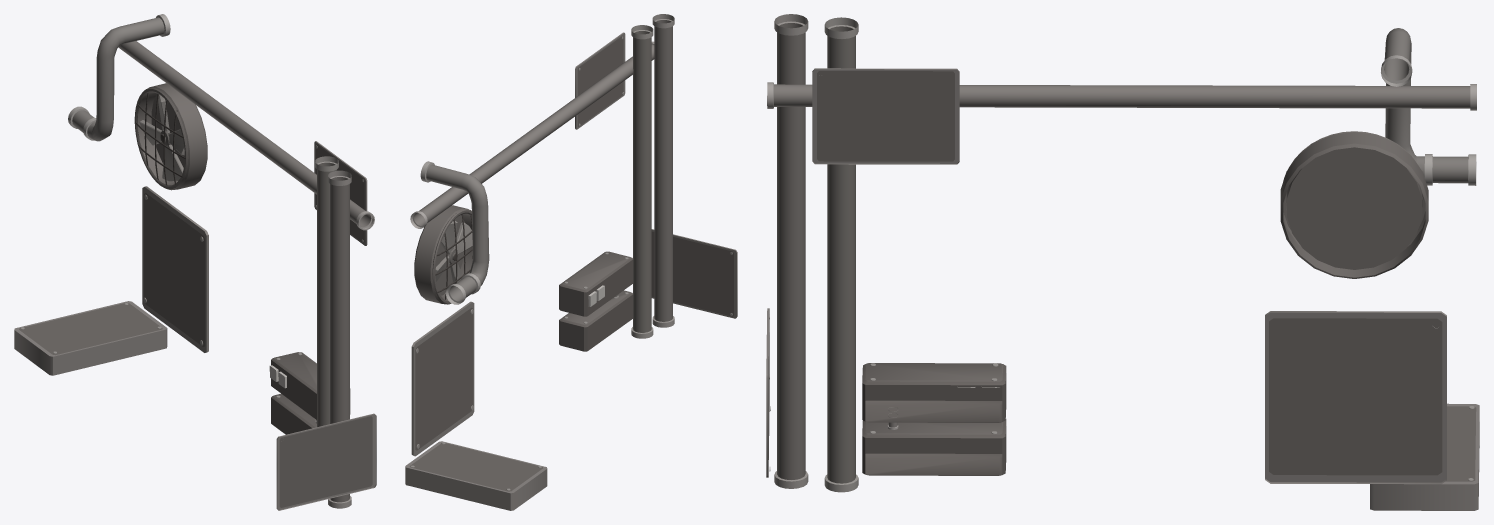
The model's file is Diorama_Background.fbx.
The picture shows the model from 3 angles, left to right: view 1: azimuth 30°, elevation 25°; view 2: azimuth 150°, elevation 25°; view 3: azimuth 270°, elevation 25°; orthographic projection. The views are drawn at different scales.
Visible parts, largest first — view 1: pipes03.002, pipes03.005, pipes03.006, ShopLargePipe00.006, fanBody.001, ShopLargePipe00.001, ShopLargePipe00.002, ShopLargePipe00, pipes03.007, fanBlade.003, pipes03.004, pipes03.008; view 2: pipes03.002, pipes03.006, ShopLargePipe00.006, ShopLargePipe00.002, pipes03.005, ShopLargePipe00.001, fanBody.001, ShopLargePipe00, pipes03.007, pipes03.008, pipes03.004, fanBlade.003; view 3: pipes03.002, fanBody.001, pipes03.004, ShopLargePipe00.006, ShopLargePipe00.001, ShopLargePipe00.002, pipes03.007, pipes03.008, pipes03.006, ShopLargePipe00.
Part boxes in pixels (x1,y1,x2,y2): pipes03.002: [142, 186, 208, 352]; pipes03.005: [276, 413, 376, 510]; pipes03.006: [14, 301, 167, 375]; ShopLargePipe00.006: [328, 170, 351, 508]; fanBody.001: [134, 83, 207, 190]; ShopLargePipe00.001: [118, 41, 374, 230]; ShopLargePipe00.002: [315, 156, 338, 427]; ShopLargePipe00: [68, 14, 170, 141]; pipes03.007: [271, 352, 350, 419]; fanBlade.003: [139, 94, 184, 181]; pipes03.004: [314, 141, 367, 245]; pipes03.008: [271, 393, 316, 434]; pipes03.002: [411, 301, 474, 456]; pipes03.006: [405, 441, 547, 510]; ShopLargePipe00.006: [652, 14, 674, 327]; ShopLargePipe00.002: [631, 25, 653, 338]; pipes03.005: [651, 229, 737, 318]; ShopLargePipe00.001: [410, 41, 654, 228]; fanBody.001: [414, 205, 472, 304]; ShopLargePipe00: [420, 161, 489, 304]; pipes03.007: [559, 251, 633, 316]; pipes03.008: [559, 290, 633, 351]; pipes03.004: [575, 32, 625, 129]; fanBlade.003: [435, 221, 472, 283]; pipes03.002: [1265, 311, 1446, 484]; fanBody.001: [1280, 131, 1428, 278]; pipes03.004: [812, 68, 959, 164]; ShopLargePipe00.006: [774, 14, 808, 488]; ShopLargePipe00.001: [767, 82, 1476, 110]; ShopLargePipe00.002: [824, 17, 858, 492]; pipes03.007: [862, 363, 1006, 422]; pipes03.008: [862, 419, 1006, 475]; pipes03.006: [1370, 403, 1479, 510]; ShopLargePipe00: [1381, 28, 1476, 185].
Bounding box in the file's own units: 0.3685 × 0.9315 × 1.29.
